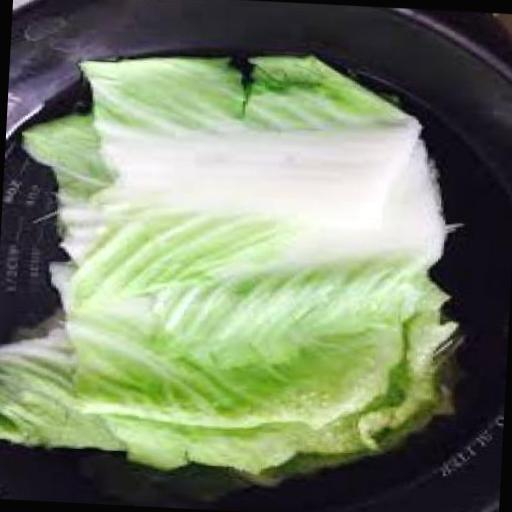biodegradable: (50, 46, 456, 434), (0, 286, 462, 499), (8, 110, 118, 307)
